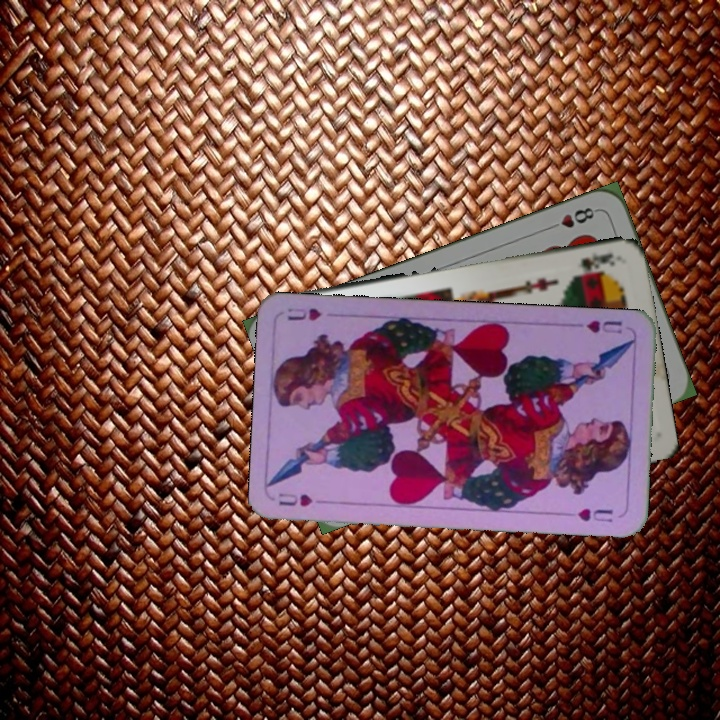H8: (544, 203, 601, 233)
HU: (274, 488, 332, 509), (582, 316, 625, 336)
SK: (568, 249, 618, 279)
